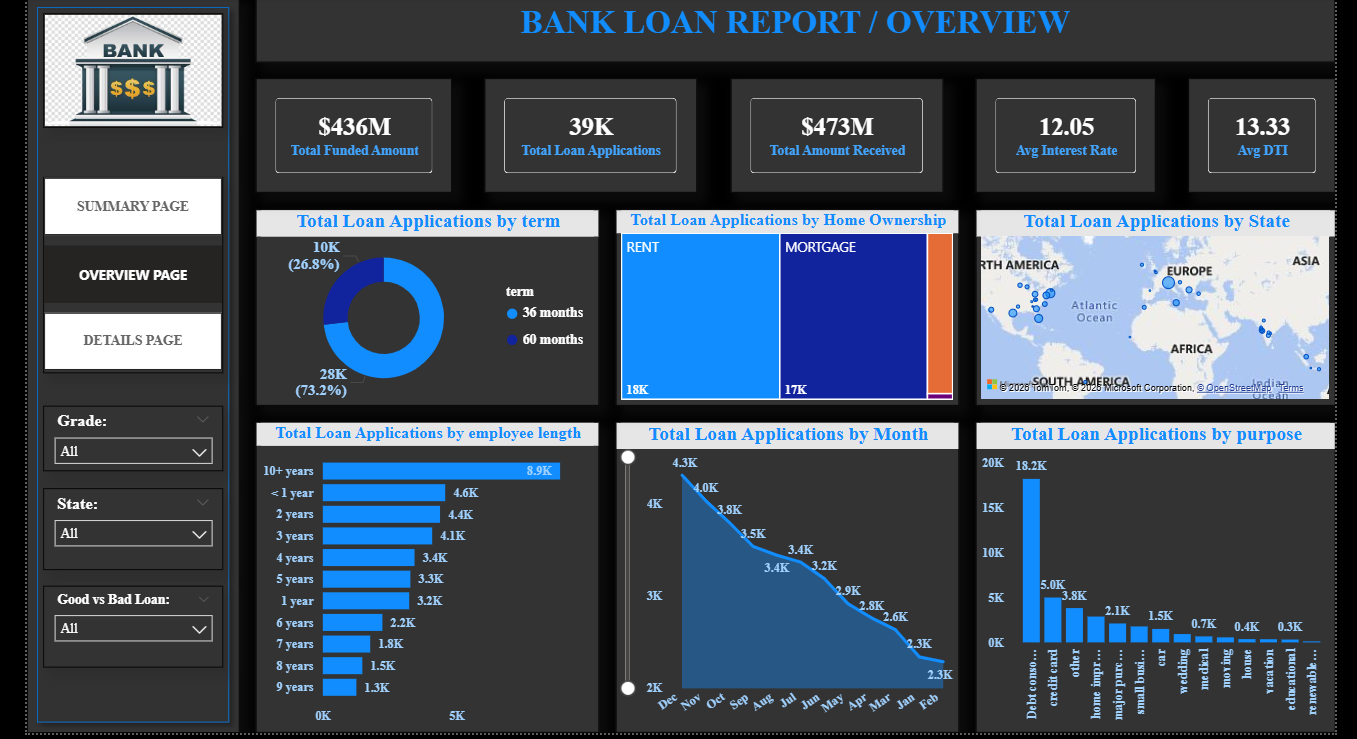

What the dashboard file says about the page in this screenshot:
{"tool":"powerbi","page":{"name":"OVERVIEW PAGE","canvas":[1280,720],"ordinal":1},"visuals":[{"type":"shape","box":[0,0,208,720],"z":0},{"type":"lineChart","fields":{"Category":["financial_loan.Month"],"Y":["financial_loan.Total Loan Applications"]},"box":[576,416,336,304],"z":1000},{"type":"map","title":"Total Loan Applications by State","fields":{"Category":["financial_loan.address_state"],"Size":["financial_loan.Total Loan Applications"]},"box":[928,208,352,192],"z":2000},{"type":"donutChart","fields":{"Category":["financial_loan.term"],"Y":["financial_loan.Total Loan Applications"]},"box":[224,208,336,192],"z":3000},{"type":"barChart","title":"Total Loan Applications by employee length","fields":{"Y":["financial_loan.Total Loan Applications"],"Category":["financial_loan.emp_length"]},"box":[224,416,336,304],"z":4000},{"type":"columnChart","fields":{"Y":["financial_loan.Total Loan Applications"],"Category":["financial_loan.purpose"]},"box":[928,416,352,304],"z":5000},{"type":"treemap","title":"Total Loan Applications by Home Ownership","fields":{"Values":["financial_loan.Total Loan Applications"],"Group":["financial_loan.home_ownership"]},"box":[576,208,336,192],"z":6000},{"type":"textbox","box":[224,0,1056,64],"z":7000},{"type":"cardVisual","fields":{"Data":["financial_loan.Total Loan Applications"]},"box":[448,80,208,112],"z":8000},{"type":"cardVisual","fields":{"Data":["financial_loan.Total Funded Amount"]},"box":[224,80,192,112],"z":9000},{"type":"cardVisual","fields":{"Data":["financial_loan.Total Amount Received"]},"box":[688,80,208,112],"z":10000},{"type":"cardVisual","fields":{"Data":["financial_loan.Avg Interest Rate"]},"box":[928,80,176,112],"z":11000},{"type":"cardVisual","fields":{"Data":["financial_loan.Avg DTI"]},"box":[1136,80,144,112],"z":12000},{"type":"pageNavigator","box":[16,176,176,192],"z":13000},{"type":"slicer","fields":{"Values":["financial_loan.grade"]},"box":[16,400,176,64],"z":14000},{"type":"slicer","fields":{"Values":["financial_loan.address_state"]},"box":[16,480,176,80],"z":15000},{"type":"slicer","fields":{"Values":["financial_loan.Loan Type"]},"box":[16,576,176,80],"z":16000},{"type":"image","box":[16,16,176,112],"z":17000}]}

Visuals, with their boxes in screenshot pixels (x1, y1, x2, y2):
shape: [x1=32, y1=14, x2=242, y2=738]
lineChart - financial_loan.Month x financial_loan.Total Loan Applications: [x1=614, y1=435, x2=954, y2=738]
"Total Loan Applications by State" map: [x1=971, y1=225, x2=1327, y2=419]
donutChart - financial_loan.term x financial_loan.Total Loan Applications: [x1=258, y1=225, x2=598, y2=419]
"Total Loan Applications by employee length" barChart: [x1=258, y1=435, x2=598, y2=738]
columnChart - financial_loan.Total Loan Applications x financial_loan.purpose: [x1=971, y1=435, x2=1327, y2=738]
"Total Loan Applications by Home Ownership" treemap: [x1=614, y1=225, x2=954, y2=419]
textbox: [x1=258, y1=14, x2=1327, y2=79]
cardVisual - financial_loan.Total Loan Applications: [x1=485, y1=95, x2=695, y2=208]
cardVisual - financial_loan.Total Funded Amount: [x1=258, y1=95, x2=453, y2=208]
cardVisual - financial_loan.Total Amount Received: [x1=728, y1=95, x2=938, y2=208]
cardVisual - financial_loan.Avg Interest Rate: [x1=971, y1=95, x2=1149, y2=208]
cardVisual - financial_loan.Avg DTI: [x1=1181, y1=95, x2=1327, y2=208]
pageNavigator: [x1=48, y1=192, x2=226, y2=386]
slicer - financial_loan.grade: [x1=48, y1=419, x2=226, y2=484]
slicer - financial_loan.address_state: [x1=48, y1=500, x2=226, y2=581]
slicer - financial_loan.Loan Type: [x1=48, y1=597, x2=226, y2=678]
image: [x1=48, y1=30, x2=226, y2=144]
